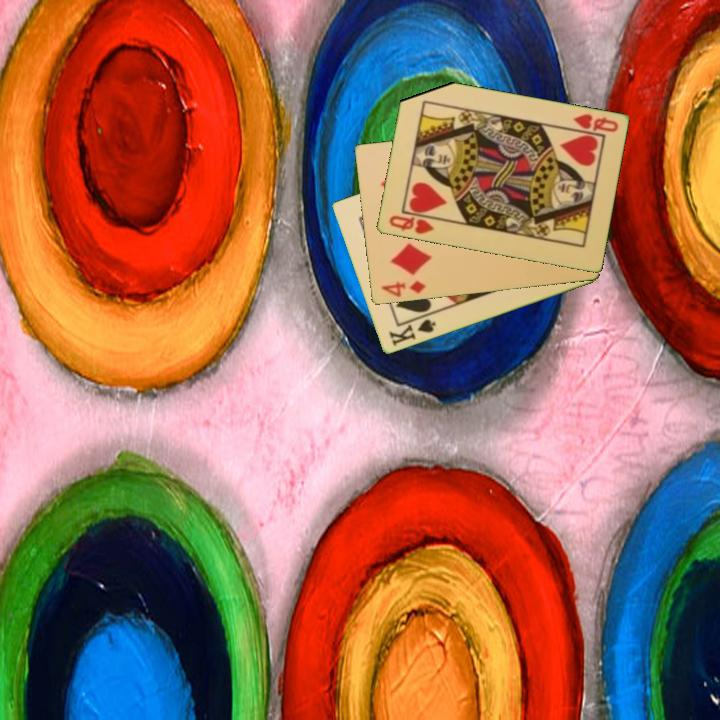4d: (378, 277, 428, 300)
Ks: (385, 311, 439, 349)
Qh: (385, 212, 436, 237), (570, 110, 621, 135)
